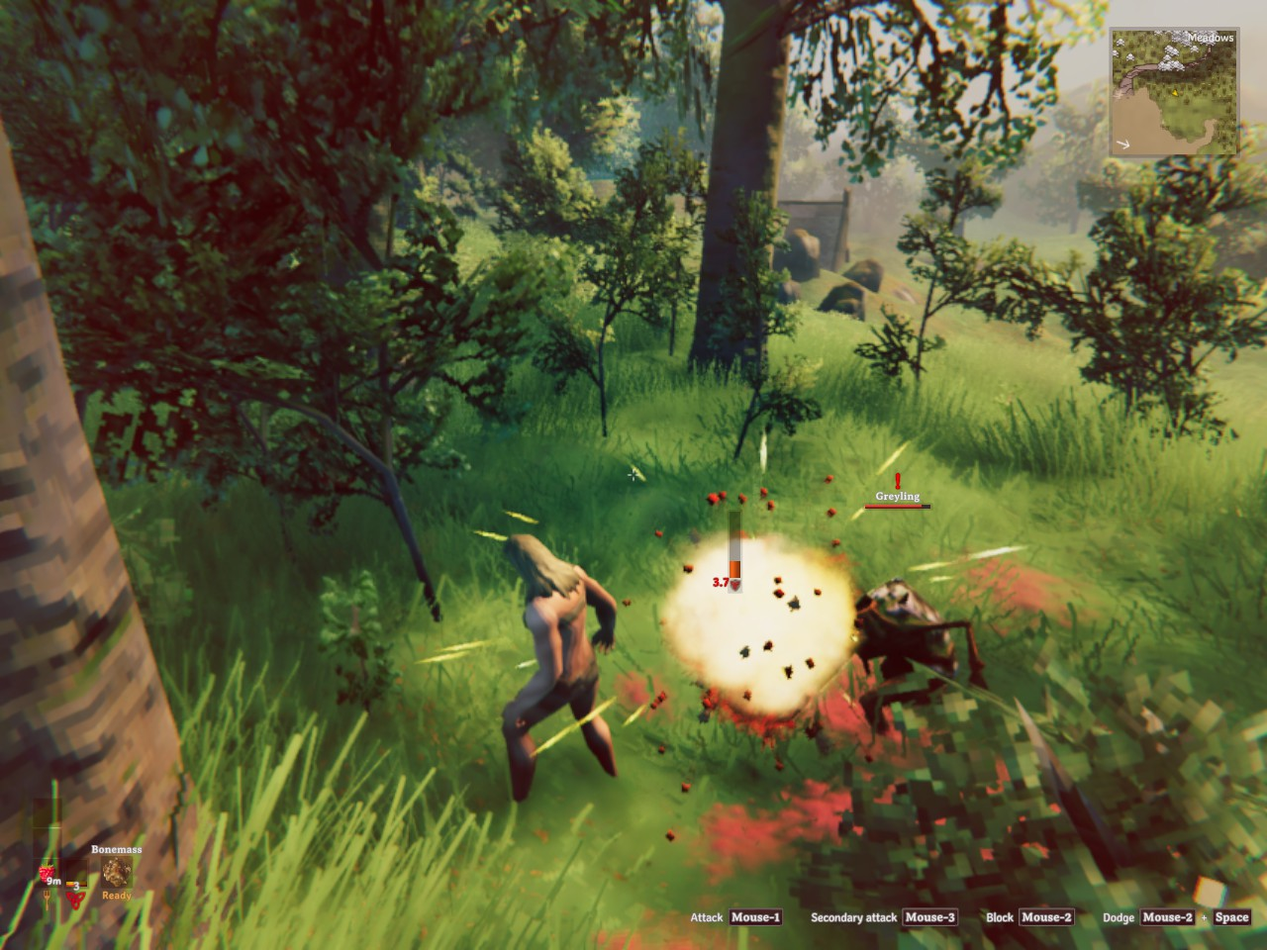Greyling: (853, 578, 987, 688), (859, 681, 941, 730)
